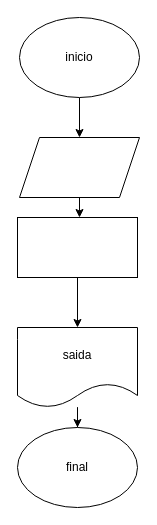
The diagram is 157 pixels wide and 525 high, and some of its shapes have lost their labels. The shapes that lost their labels are listed below. From the top down, each one's box as (x1, y1, x2, y2) in pixels, then its label:
(18, 136, 140, 198): nota1,nota2
(16, 216, 138, 278): media=(nota1+nota2)/2
